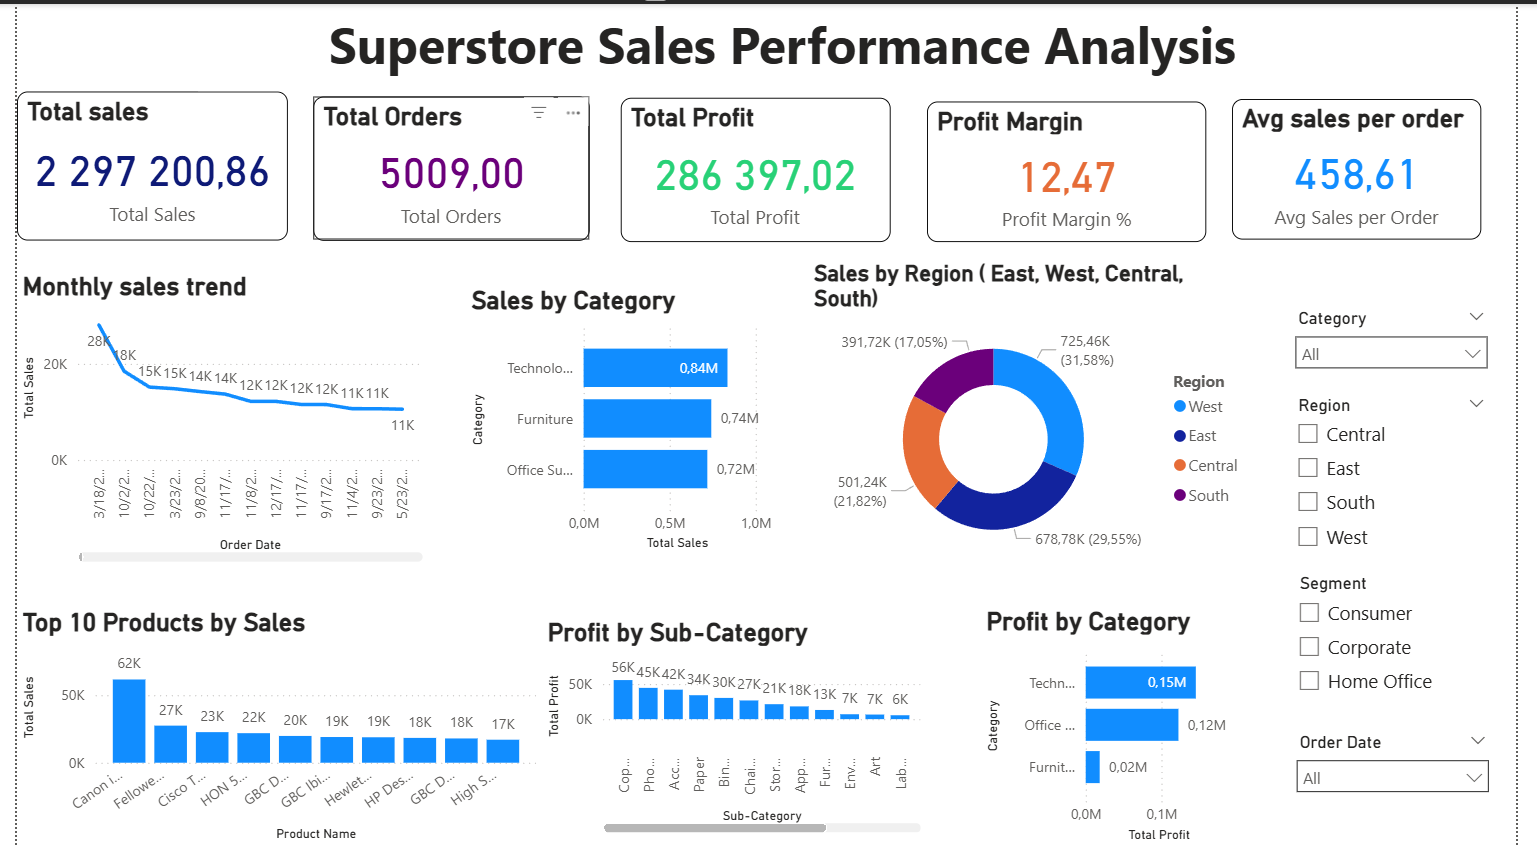

Layout of this report page (visuals, bound fields, positions):
{"tool":"powerbi","page":{"name":"Dashboard","canvas":[1280,720],"ordinal":0},"visuals":[{"type":"card","title":"Total sales","fields":{"Values":["Sample - Superstore.Total Sales"]},"box":[8.5,74.7,231.5,127],"z":0},{"type":"card","title":"Total Profit","fields":{"Values":["Sample - Superstore.Total Profit"]},"box":[515.7,80,230,122.9],"z":1000},{"type":"card","title":"Avg sales per order","fields":{"Values":["Sample - Superstore.Avg Sales per Order"]},"box":[1037.1,81.4,212.9,120],"z":2000},{"type":"card","title":"Profit Margin","fields":{"Values":["Sample - Superstore.Profit Margin %"]},"box":[777.1,82.9,238.6,120],"z":3000},{"type":"card","title":"Total Orders","fields":{"Values":["Sample - Superstore.Total Orders"]},"box":[252.9,78.6,235.7,122.9],"z":4000},{"type":"lineChart","title":"Monthly sales trend","fields":{"Category":["Sample - Superstore.Order Date Hierarchy.Order Date"],"Y":["Sample - Superstore.Total Sales"]},"box":[8.5,229.4,351,252.9],"z":5000},{"type":"clusteredBarChart","title":"Sales by Category","fields":{"Category":["Sample - Superstore.Category"],"Y":["Sample - Superstore.Total Sales"]},"box":[383,228.3,279.6,252.9],"z":6000},{"type":"clusteredBarChart","title":"Profit by Category","fields":{"Category":["Sample - Superstore.Category"],"Y":["Sample - Superstore.Total Profit"]},"box":[822.9,514.3,234.3,205.7],"z":7000},{"type":"donutChart","title":"Sales by Region ( East, West, Central, South)","fields":{"Y":["Sample - Superstore.Total Sales"],"Category":["Sample - Superstore.Region"]},"box":[675.7,218.6,381.4,262.9],"z":8000},{"type":"slicer","fields":{"Values":["Sample - Superstore.Region"]},"box":[1084.1,300.9,184.6,161.1],"z":9000},{"type":"slicer","fields":{"Values":["Sample - Superstore.Category"]},"box":[1083,218.7,184.6,73.6],"z":10000},{"type":"slicer","fields":{"Values":["Sample - Superstore.Segment"]},"box":[1085.1,471.6,183.5,137.6],"z":11000},{"type":"slicer","fields":{"Values":["Sample - Superstore.Order Date"]},"box":[1085.1,615.7,183.5,103.5],"z":12000},{"type":"clusteredColumnChart","title":"Top 10 Products by Sales","fields":{"Category":["Sample - Superstore.Product Name"],"Y":["Sample - Superstore.Total Sales"]},"box":[8.5,515.4,448.1,204.9],"z":13000},{"type":"clusteredColumnChart","title":"Profit by Sub-Category","fields":{"Category":["Sample - Superstore.Sub-Category"],"Y":["Sample - Superstore.Total Profit"]},"box":[475.9,515.4,328.6,204.9],"z":14000},{"type":"textbox","box":[154.3,0,997.1,74.3],"z":15000}]}

Visuals, with their boxes in screenshot pixels (x1, y1, x2, y2), scaled from the page's 1280x720 canvas onto the 1537x846 screenshot:
"Total sales" card: 10:88:288:237
"Total Profit" card: 619:94:895:238
"Avg sales per order" card: 1245:96:1501:237
"Profit Margin" card: 933:97:1220:238
"Total Orders" card: 304:92:587:237
"Monthly sales trend" lineChart: 10:270:432:567
"Sales by Category" clusteredBarChart: 460:268:796:565
"Profit by Category" clusteredBarChart: 988:604:1269:845
"Sales by Region ( East, West, Central, South)" donutChart: 811:257:1269:566
slicer - Sample - Superstore.Region: 1302:354:1523:543
slicer - Sample - Superstore.Category: 1300:257:1522:343
slicer - Sample - Superstore.Segment: 1303:554:1523:716
slicer - Sample - Superstore.Order Date: 1303:723:1523:845
"Top 10 Products by Sales" clusteredColumnChart: 10:606:548:845
"Profit by Sub-Category" clusteredColumnChart: 571:606:966:845
textbox: 185:0:1383:87
